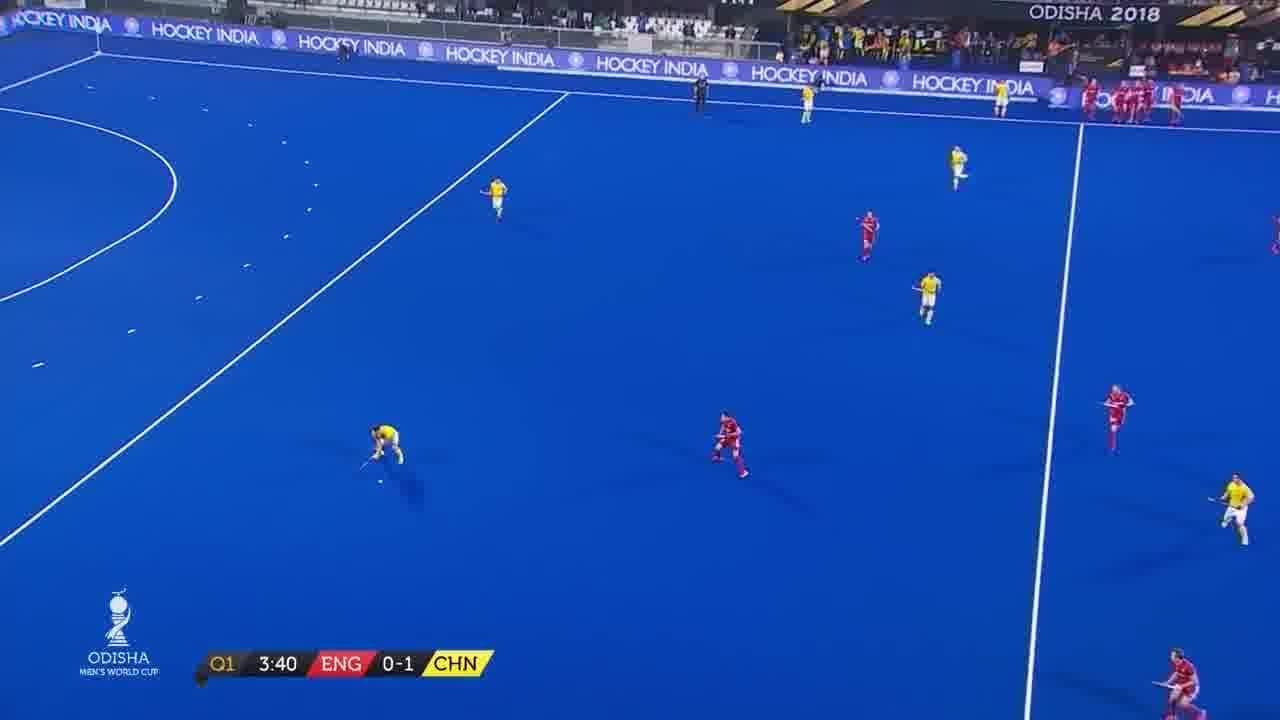ball: (373, 476, 388, 487)
